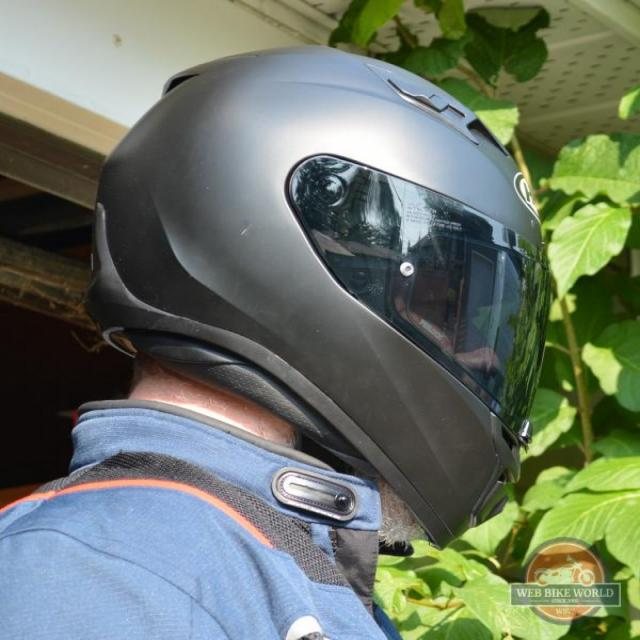Helmet: (84, 51, 560, 550)
